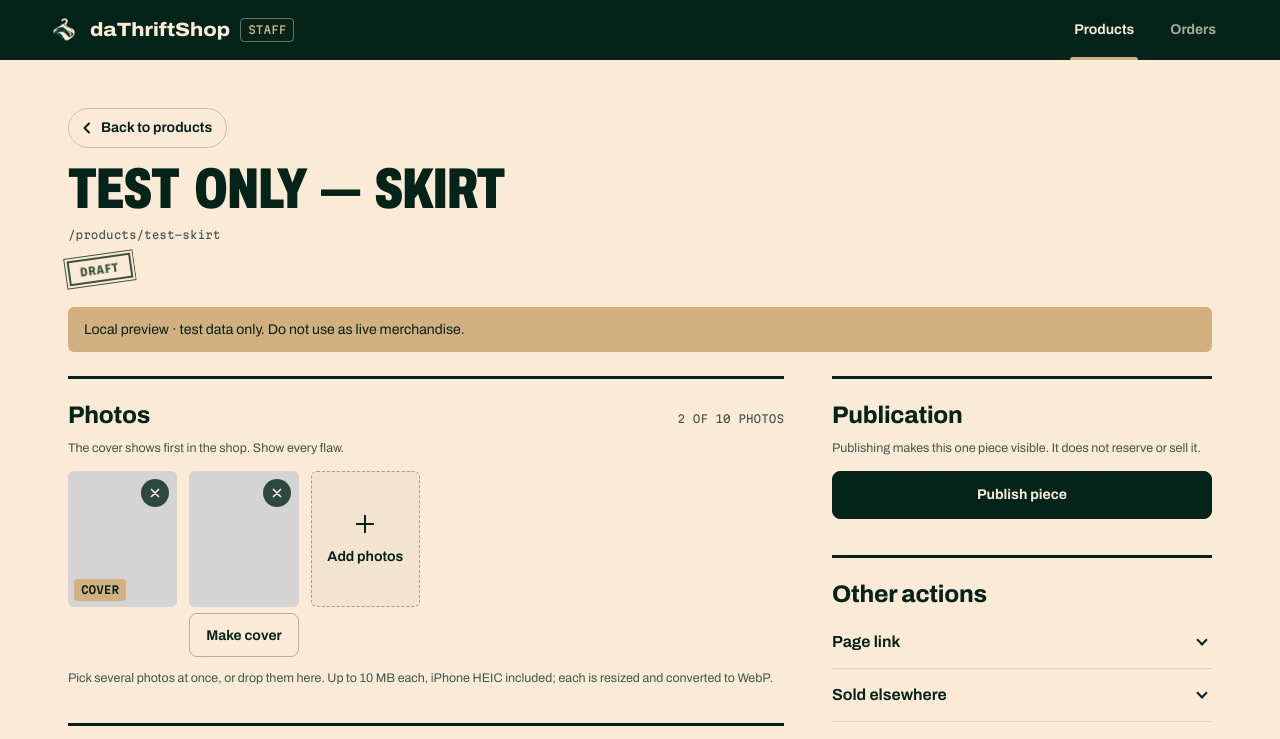
Scenario: removes a photo only after staff confirm it
Click the button named "Remove photo 1". click: (155, 493)
box: [133, 471, 177, 515]
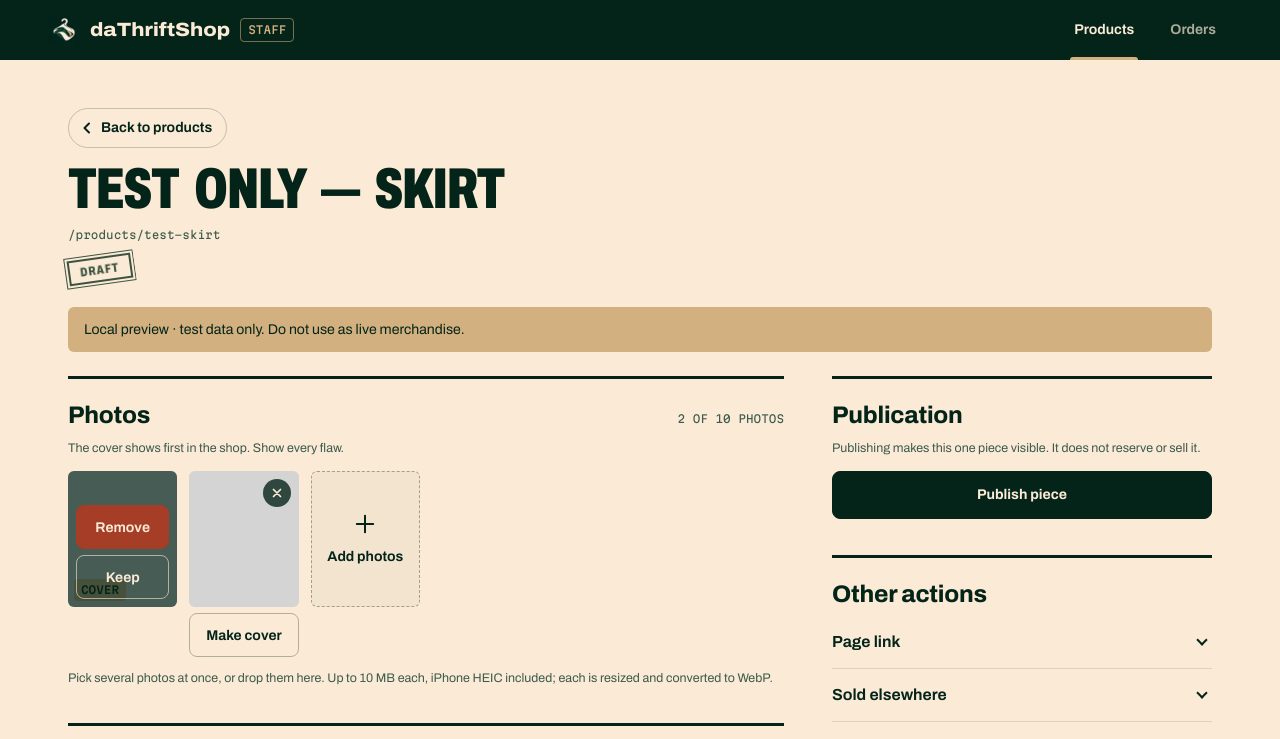
Click the button with aria-label "Keep photo 1". click: (123, 577)
box: [76, 555, 169, 599]
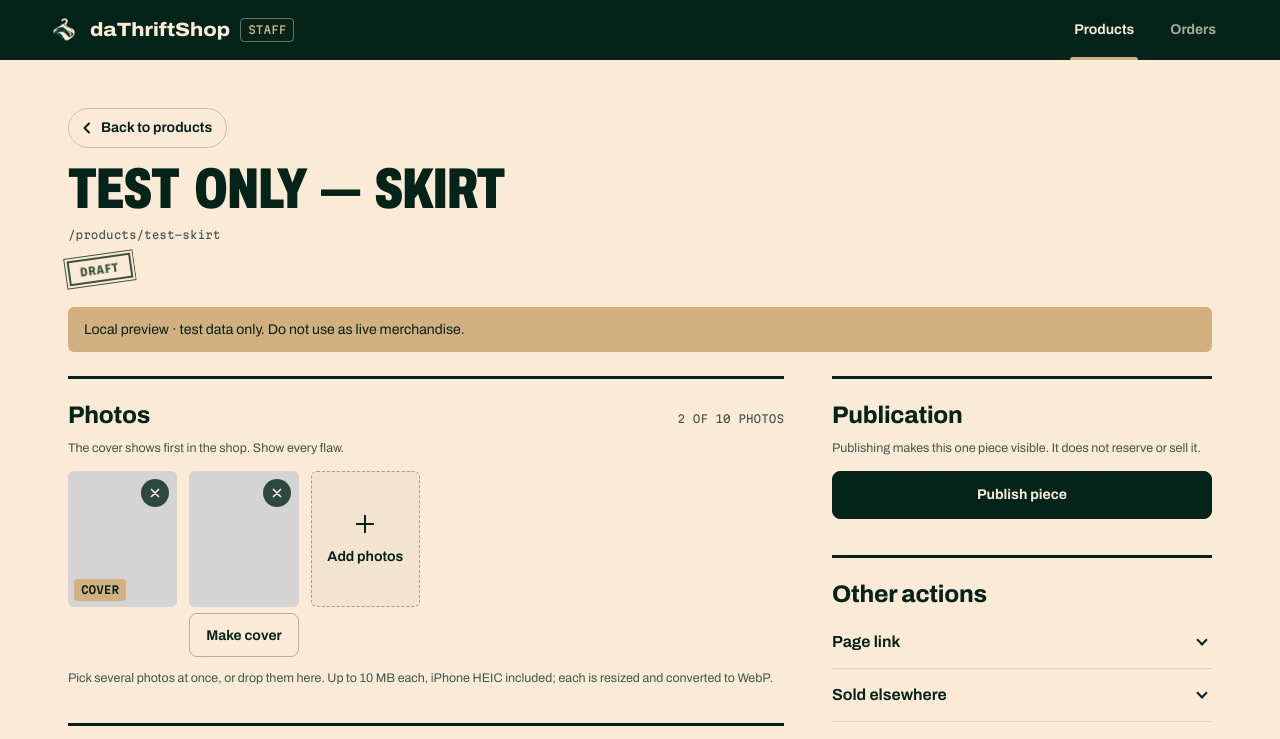
Click the button named "Remove photo 1". click: (155, 493)
box: [133, 471, 177, 515]
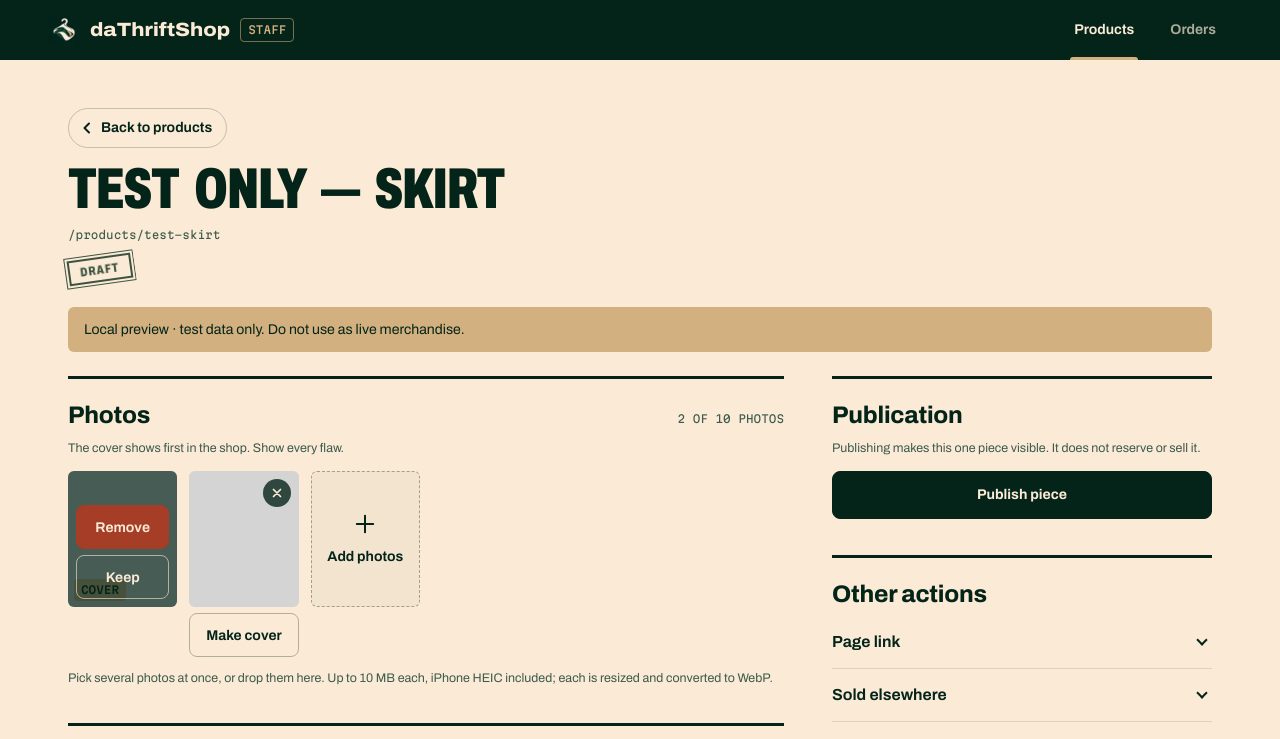
Click the button with aria-label "Confirm removing photo 1". click: (123, 527)
box: [76, 505, 169, 549]
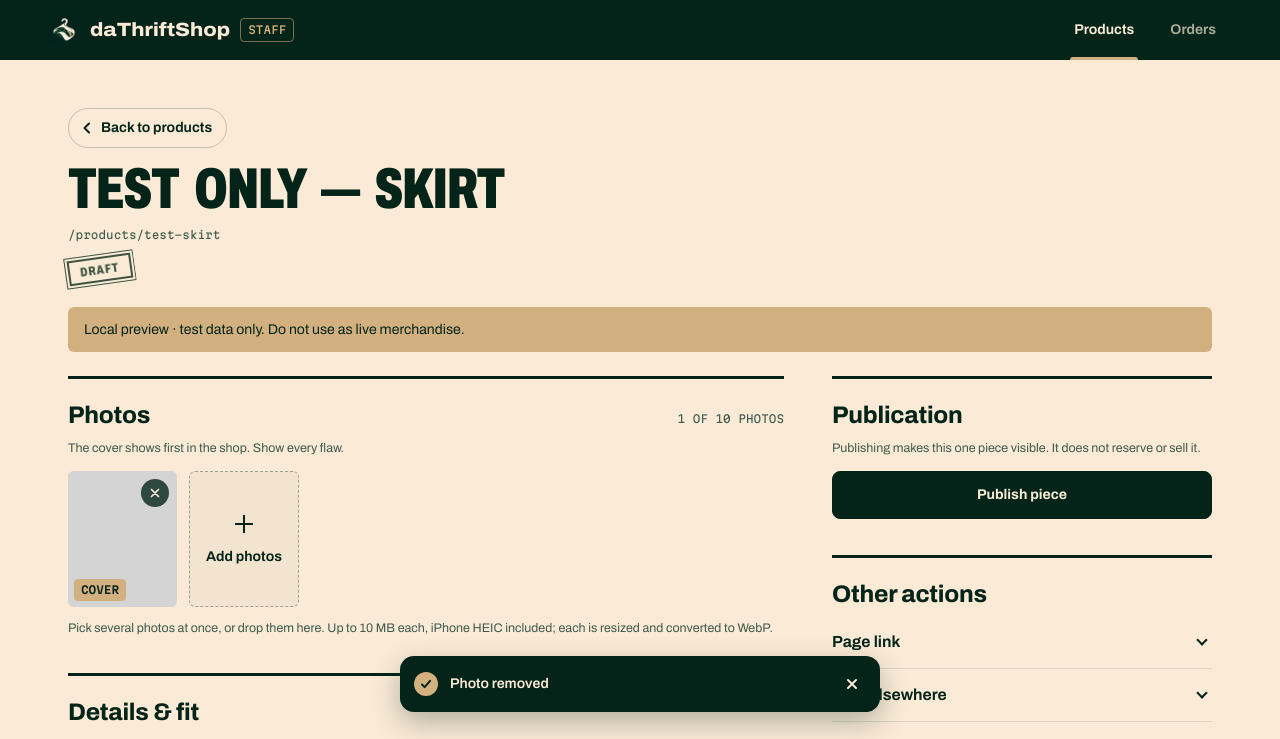
Expected: the text "Photo removed" is shown, [450, 676, 549, 691]
